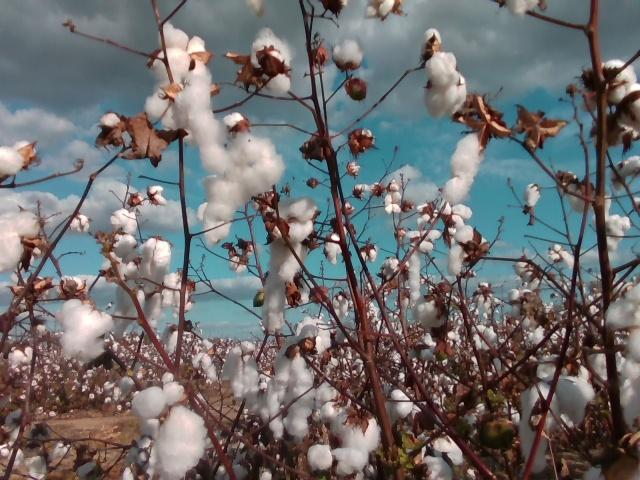cotton_ready: (150, 24, 228, 176), (203, 131, 285, 242), (134, 382, 207, 480), (522, 376, 597, 471), (263, 200, 316, 334), (261, 328, 318, 439), (605, 284, 640, 430), (423, 29, 468, 119), (61, 296, 114, 357), (112, 278, 162, 342), (0, 207, 41, 272), (403, 231, 440, 302), (224, 341, 260, 412), (445, 135, 480, 207), (251, 30, 290, 92), (331, 410, 380, 457), (421, 436, 466, 480), (304, 444, 368, 474), (448, 226, 488, 274), (315, 385, 359, 428), (594, 60, 635, 102), (566, 181, 612, 216), (295, 316, 334, 355), (139, 238, 172, 280), (380, 387, 415, 424), (0, 140, 37, 174), (413, 299, 451, 330), (604, 215, 631, 254), (163, 275, 194, 308), (332, 41, 364, 71), (621, 87, 640, 137), (444, 204, 473, 227), (364, 0, 395, 20), (506, 0, 537, 17), (248, 0, 267, 20)
